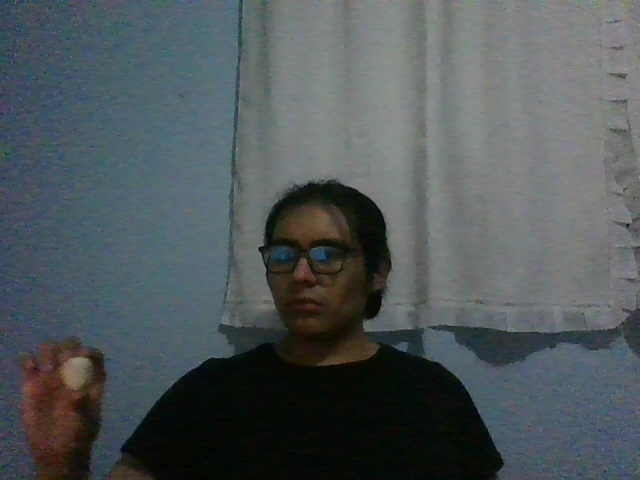goma: (59, 357, 96, 391)
